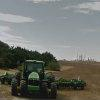Tractor: (10, 51, 71, 100)
